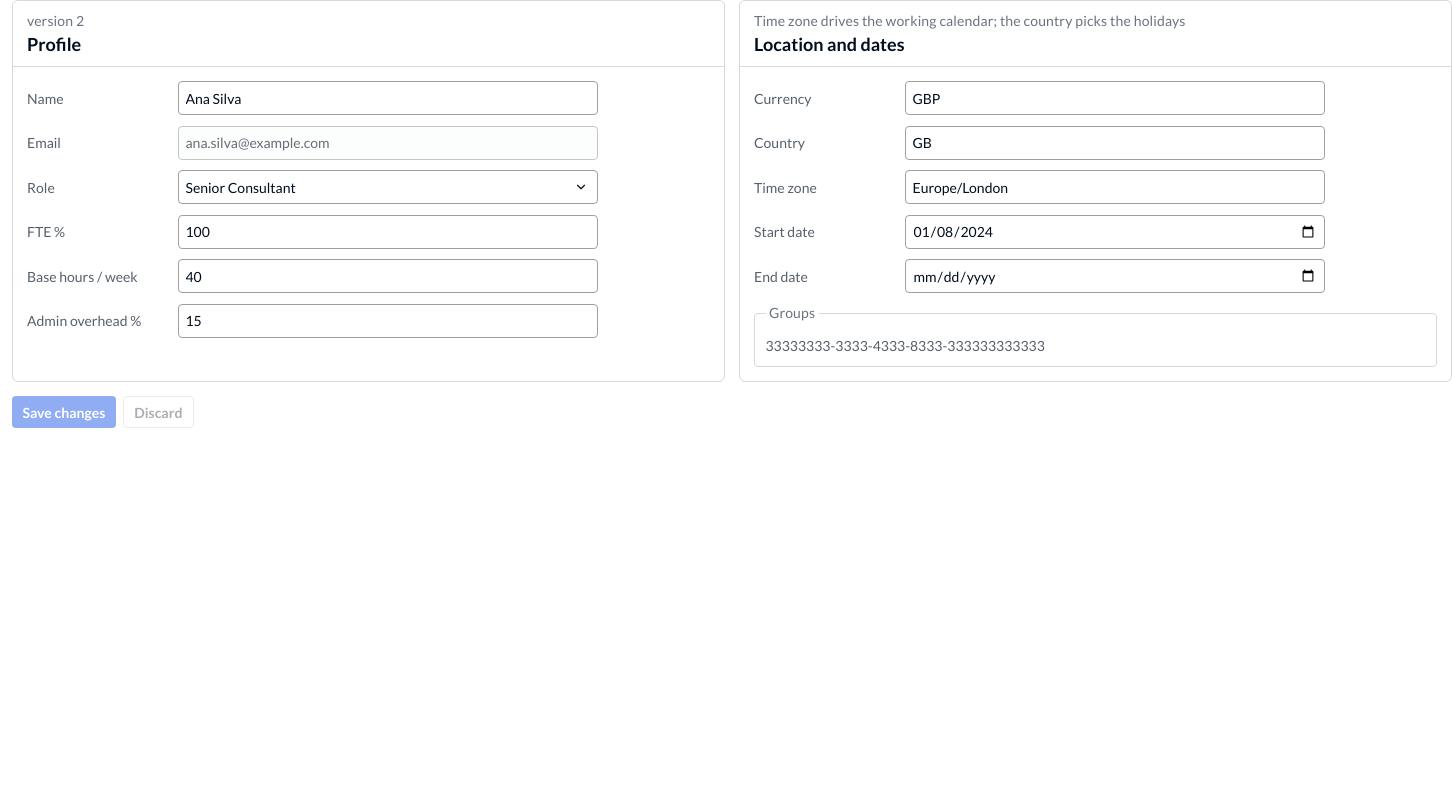
DetailsTab › sends the version with the changed fields and toasts Reloaded on stale_version
The width and height of the screenshot is (1452, 810).
Step 1. Replace the text in the number field labelled "FTE %" with "80" → (388, 232), box 178,215 -> 598,249
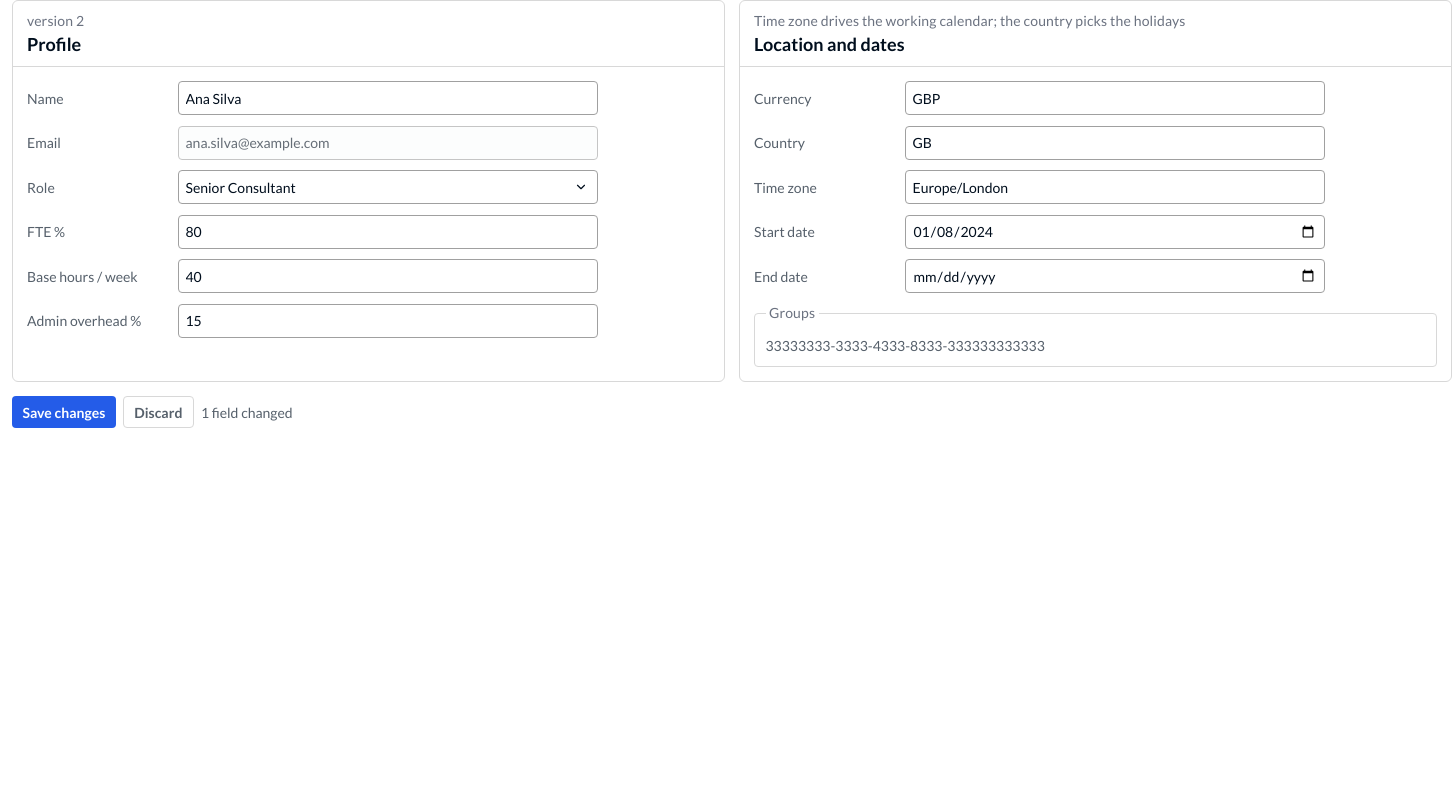
Check: the text "1 field changed" is shown, box 201,403 -> 293,422
Step 2. Click the button "Save changes" → (64, 412), box 12,396 -> 116,428
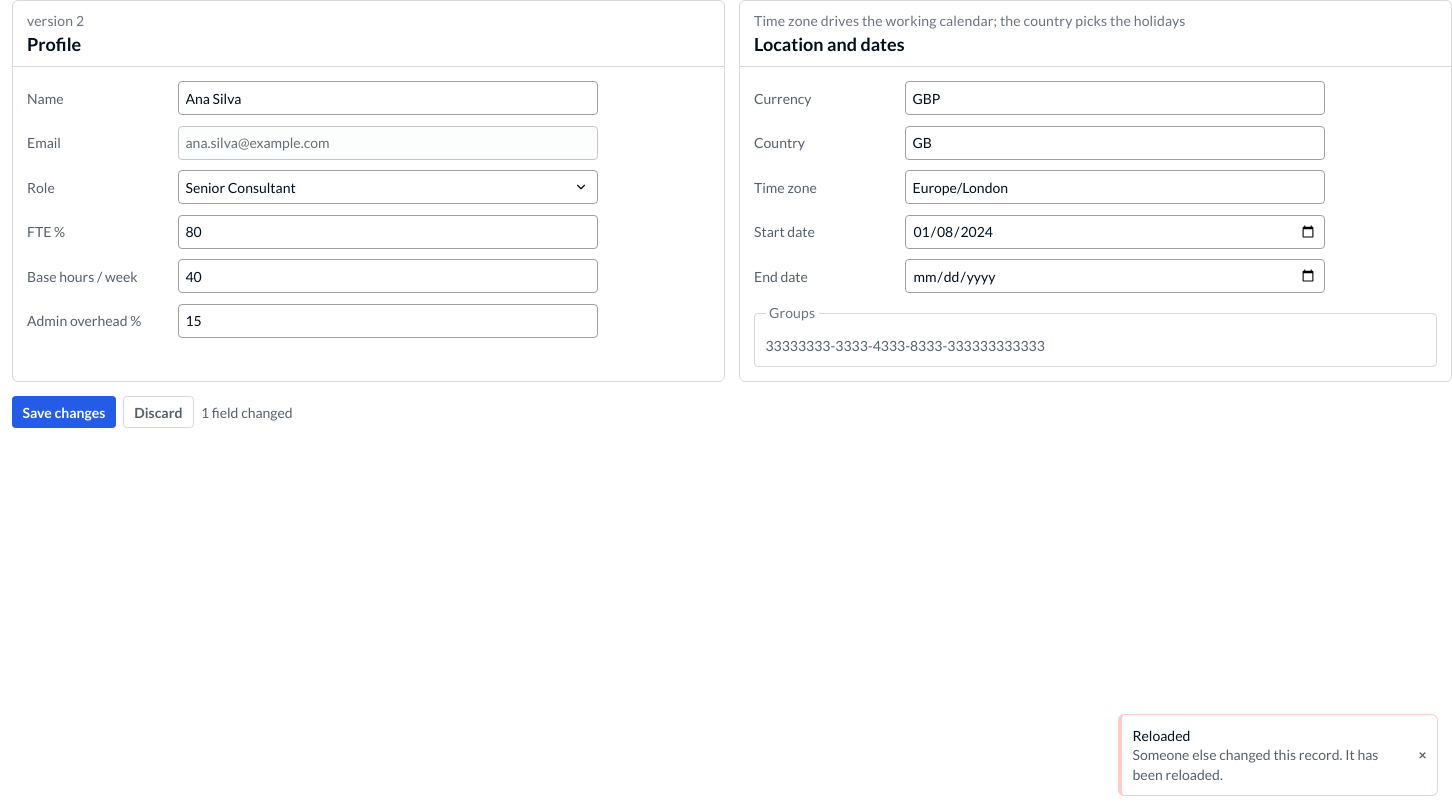
Check: the text "Reloaded" is shown, box 1132,727 -> 1190,744
